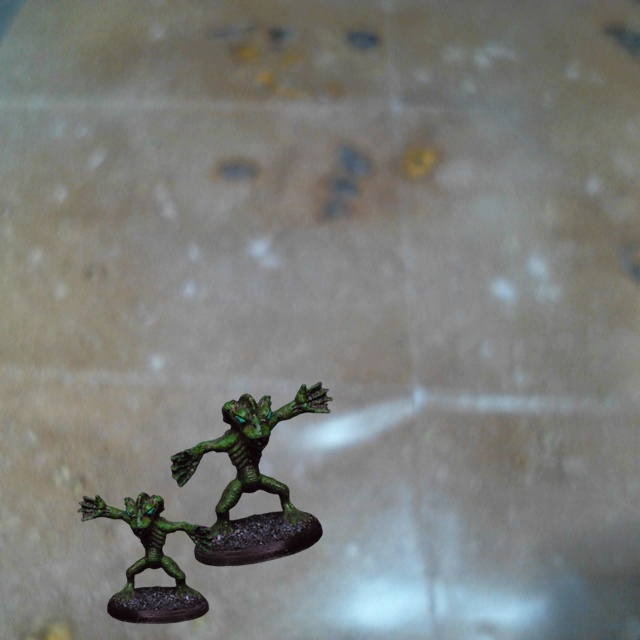pieza_juego: (170, 382, 332, 566), (77, 492, 212, 623)
